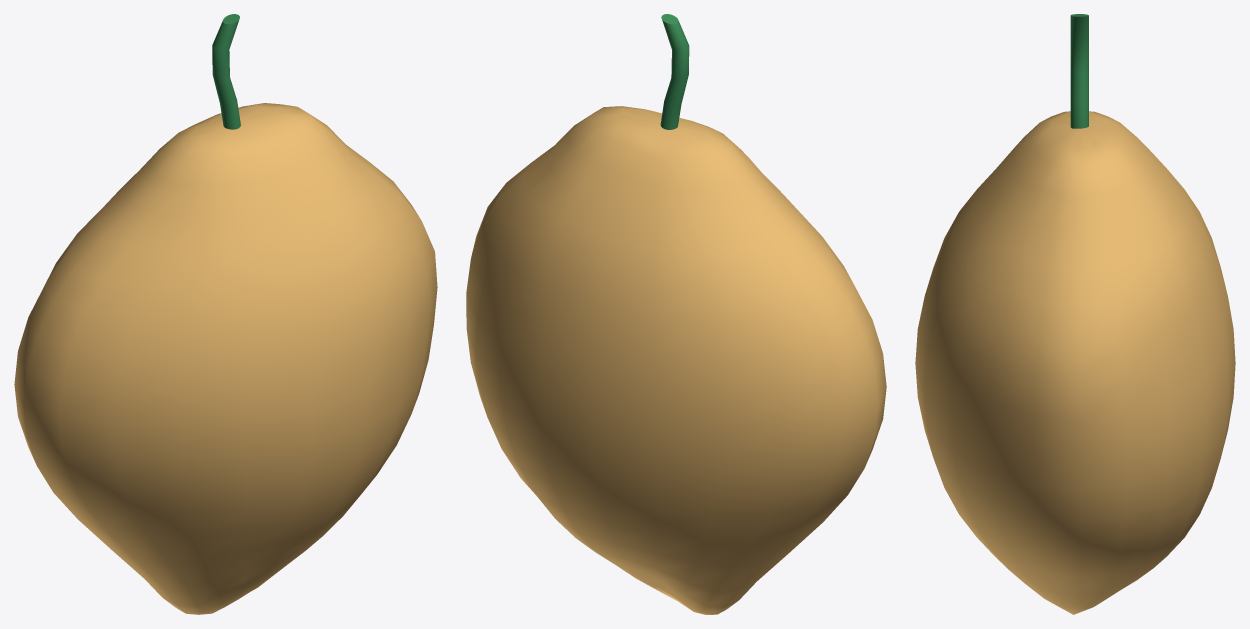
Rendered from mango.fbx.
3 views of the same model, side by side, from view 1: azimuth 30°, elevation 25°; view 2: azimuth 150°, elevation 25°; view 3: azimuth 270°, elevation 25° (orthographic). The views are drawn at different scales.
Parts seen in each view (by area): view 1: pCylinder2; view 2: pCylinder2; view 3: pCylinder2.
Boxes of the visible parts, bbox=[...] form: pCylinder2: bbox=[14, 14, 437, 614]; pCylinder2: bbox=[466, 14, 886, 614]; pCylinder2: bbox=[915, 14, 1235, 614].
Size of the model in its own units: 6.32 by 8.76 by 4.2.
